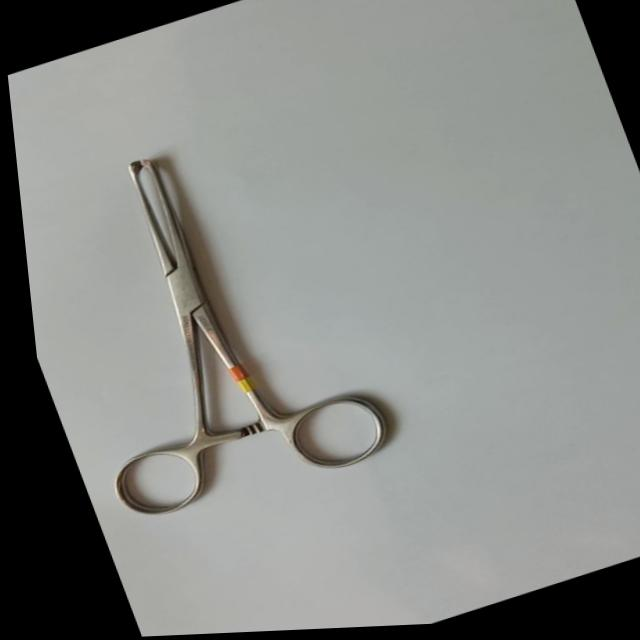AllisForcep: (10, 112, 400, 543)
